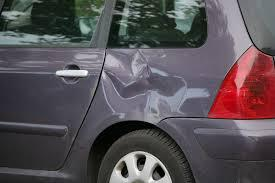quaterpanel-dent: (100, 45, 235, 149)
